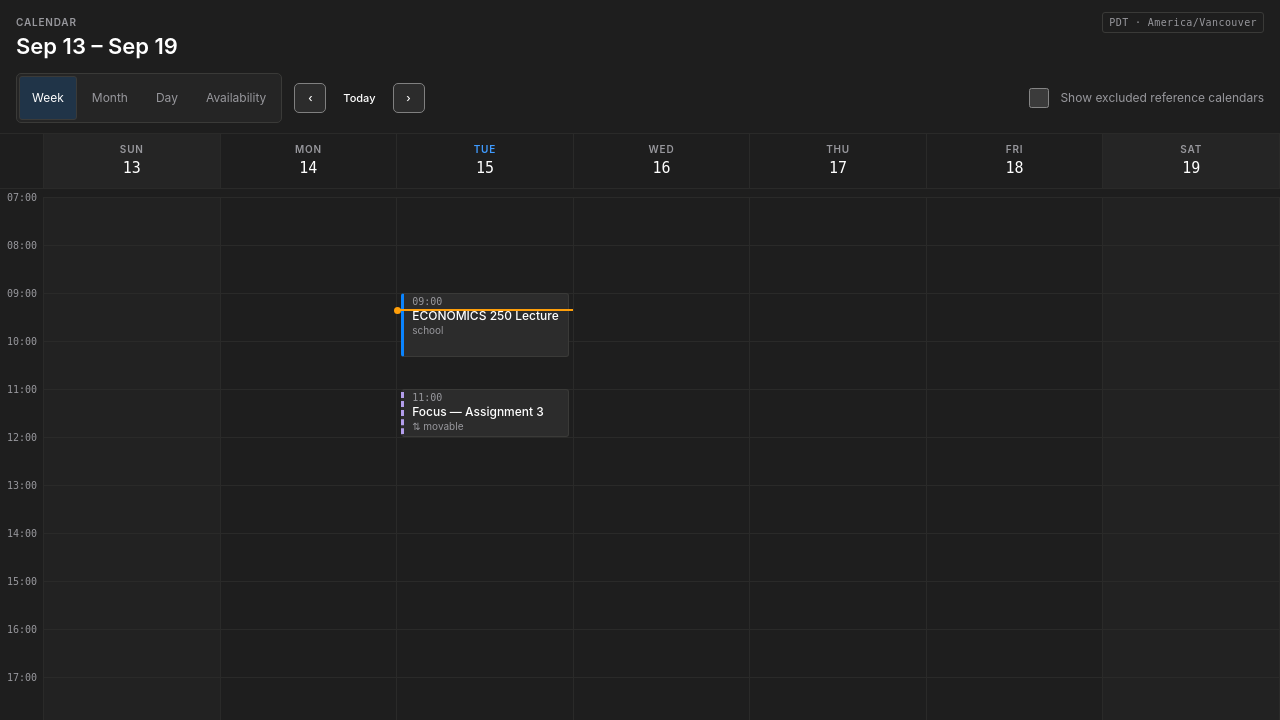
Scenario: the Availability view's copy › says what it searches — the next 7 days from today — not 'next week'
The width and height of the screenshot is (1280, 720).
Click the button "Availability" at {"x": 236, "y": 98}, box [193,76,279,120]
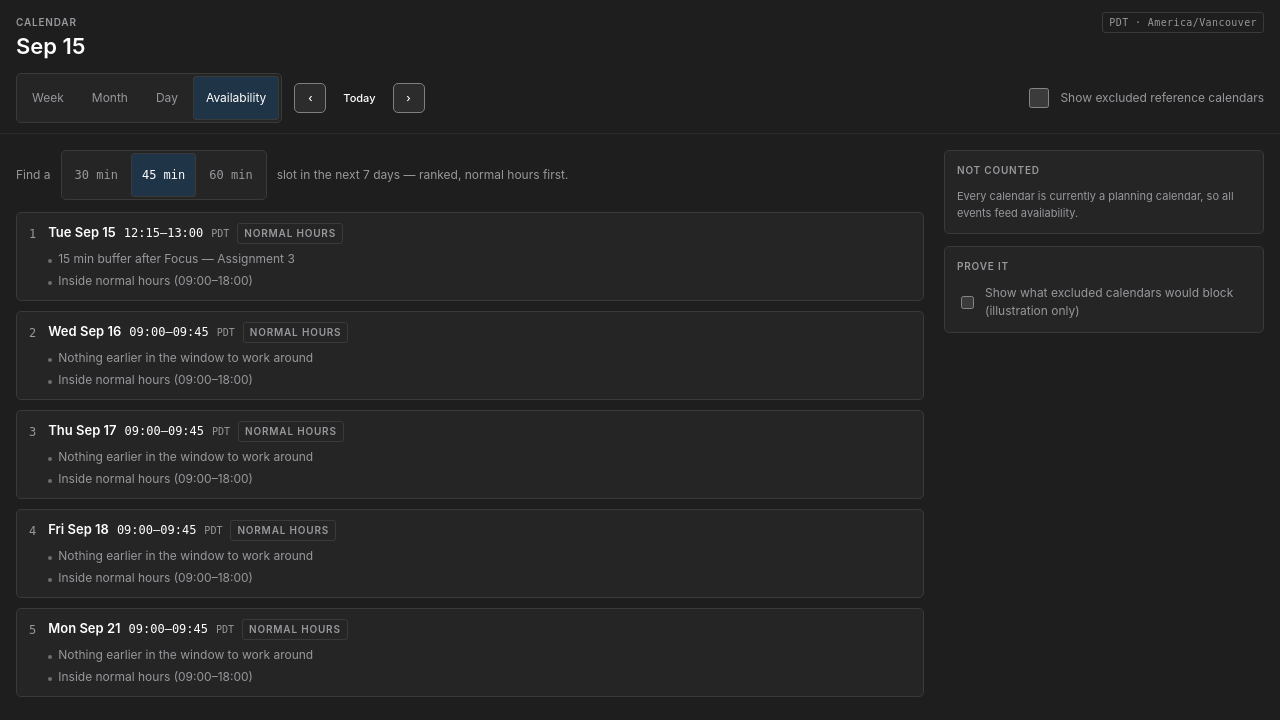
Now the element with class "avail" shows "next 7 days", box [314,167,400,182]
